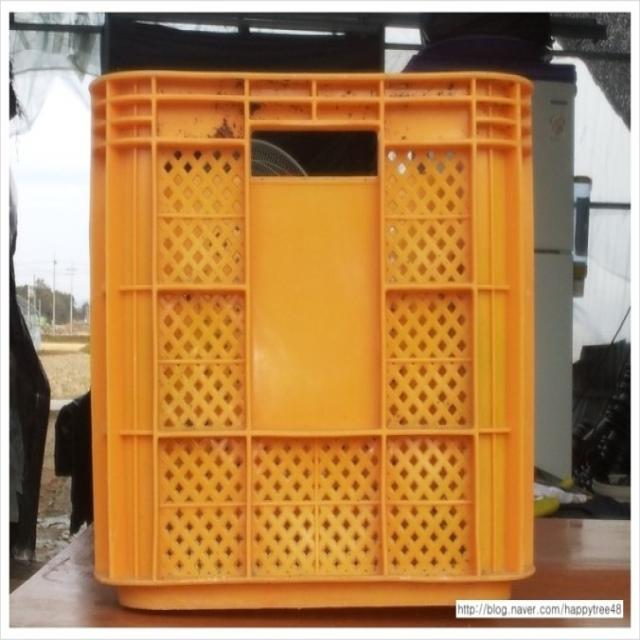basket: (89, 69, 535, 610)
